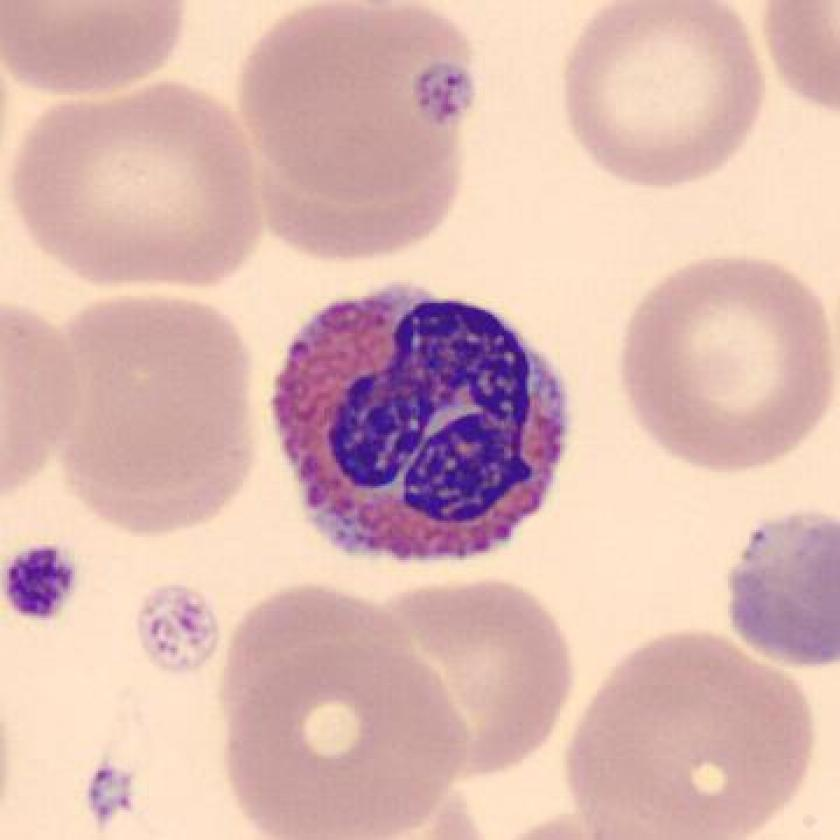eosinophil: (260, 267, 584, 575)
